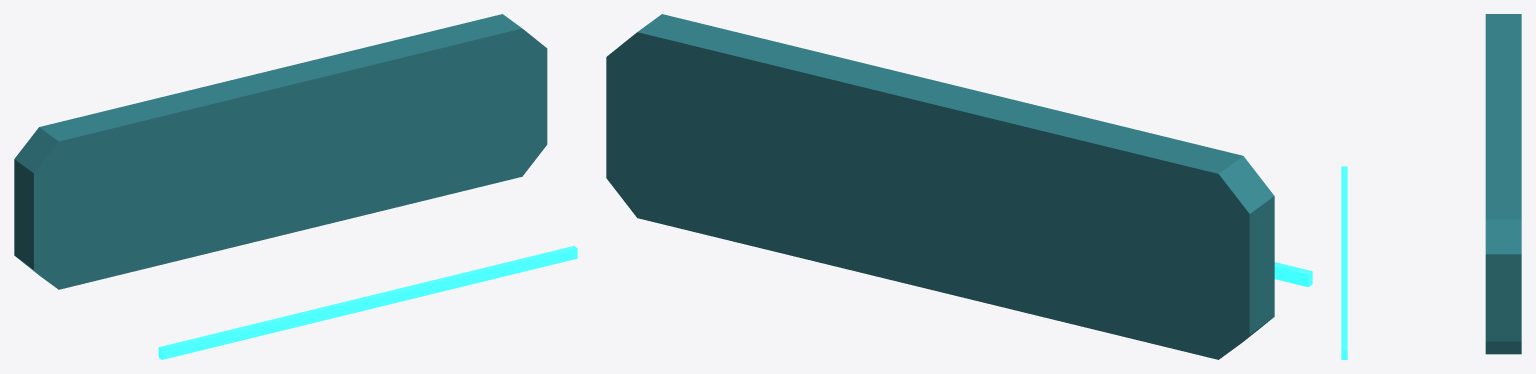
File: City_Bench_Back.glb
The picture shows the model from 3 angles, left to right: view 1: azimuth 30°, elevation 25°; view 2: azimuth 150°, elevation 25°; view 3: azimuth 270°, elevation 25°; orthographic projection. The views are drawn at different scales.
Parts seen in each view (by area): view 1: City_Bench_Back; view 2: City_Bench_Back; view 3: City_Bench_Back.
Boxes of the visible parts, x1=… form: City_Bench_Back: x1=14, y1=14, x2=577, y2=359; City_Bench_Back: x1=606, y1=14, x2=1312, y2=359; City_Bench_Back: x1=1341, y1=14, x2=1521, y2=359.
Size of the model in its own units: 2.1 by 0.65 by 0.7025.
